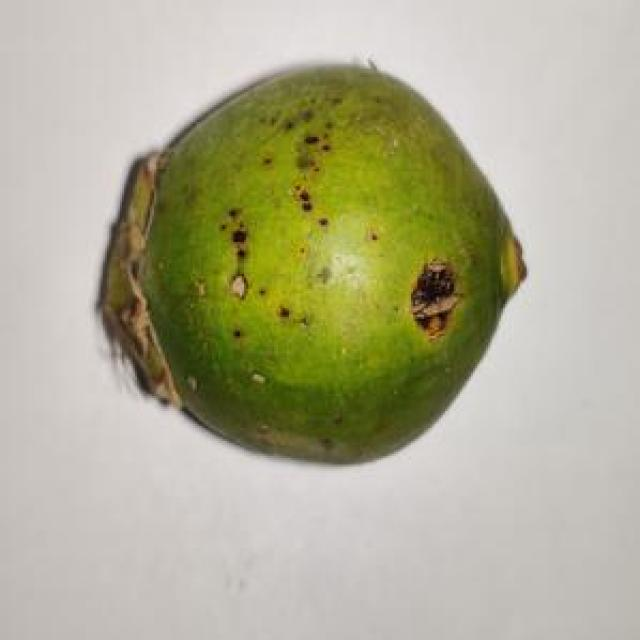damaged: (123, 49, 523, 481)
